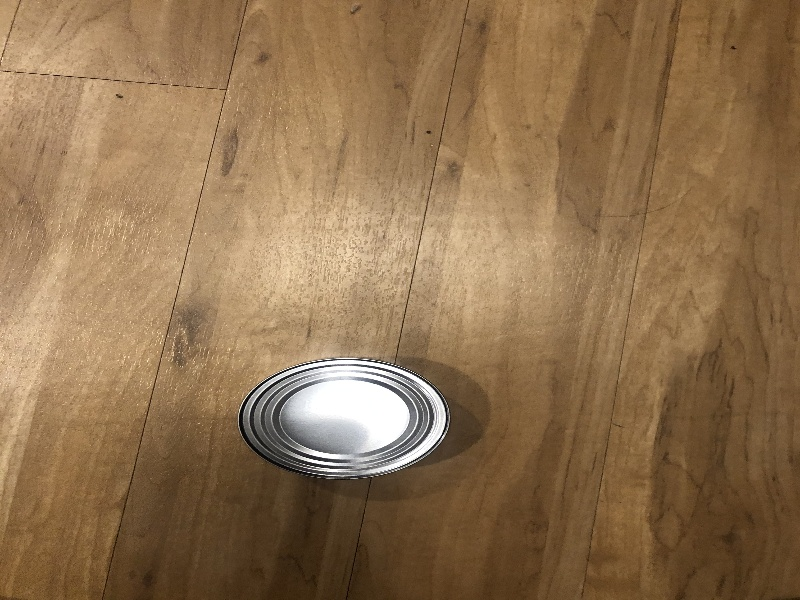metal: (233, 352, 461, 490)
